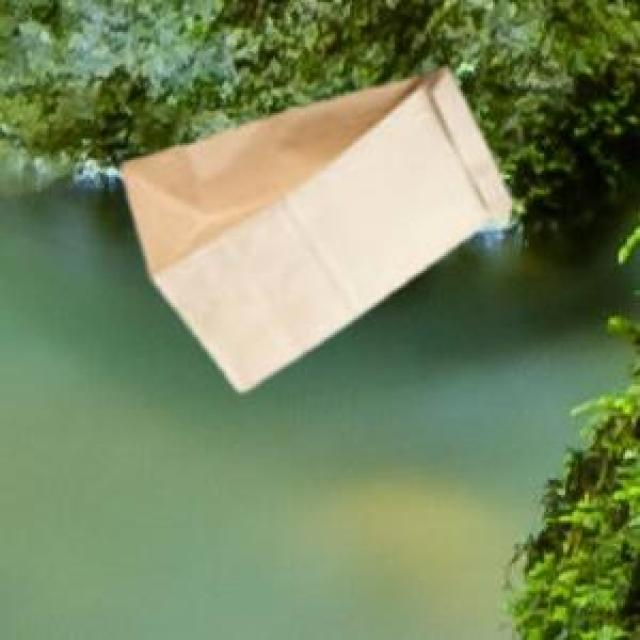paper: (117, 64, 508, 386)
